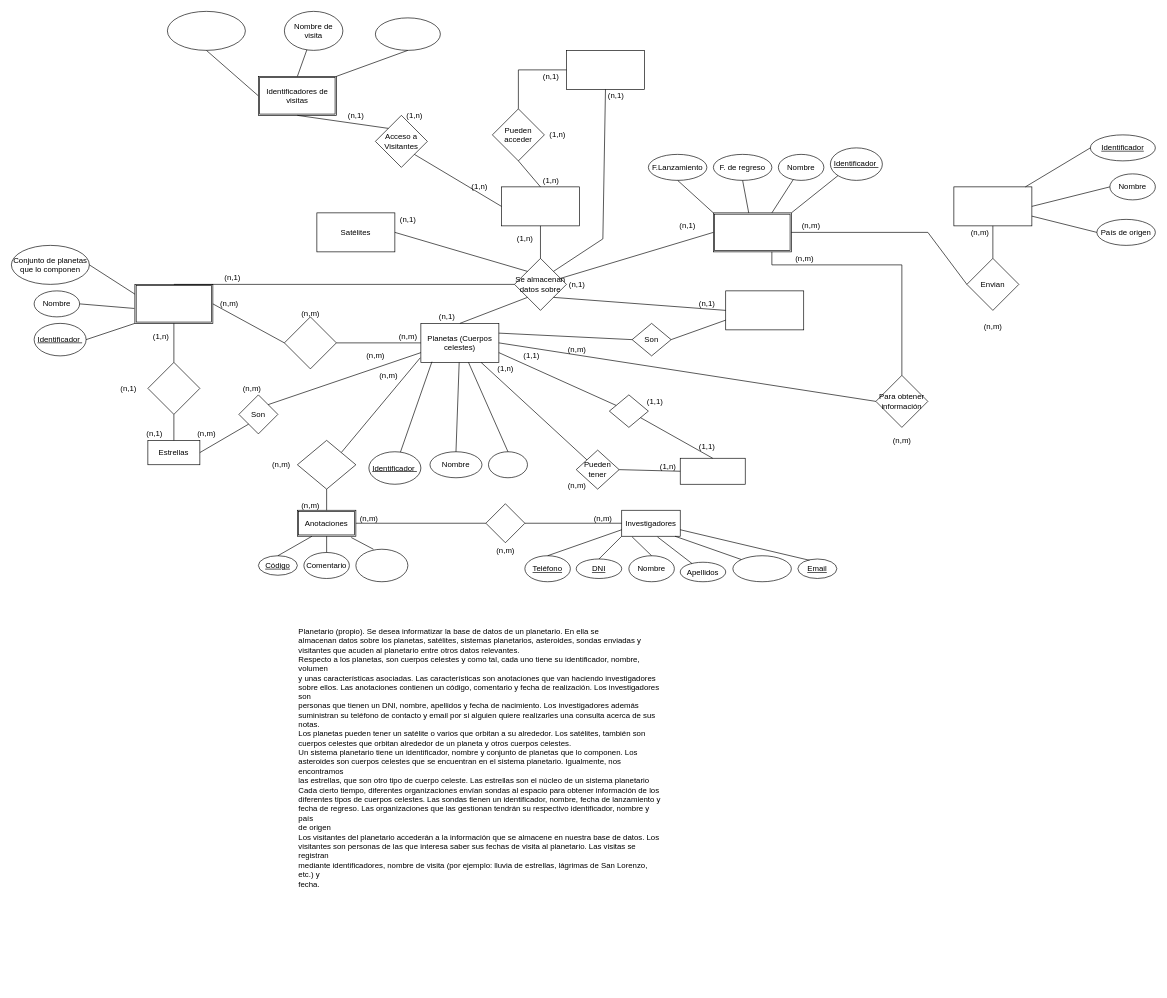
Image size: 1167x998. Some labels were removed from this diagram. Here are the shapes that lost their labels. From the top down, the centre of each, then its label:
point 206,30: Fecha de visita al planetario
point 407,33: Fecha
point 605,69: Visitantes
point 540,206: Base de datos planetario
point 992,206: Organizaciones
point 752,232: Sondas enviadas
point 173,303: Sistemas planetarios
point 764,310: Asteroides
point 310,342: Se encuentran en
point 173,388: Núcleo del sistema planetario
point 628,410: Pueden ser
point 326,464: Características asociadas
point 507,464: Volumen
point 712,471: Satélites orbitando
point 505,523: Hacen
point 381,565: Fecha de realización
point 761,568: F.Nacimiento
